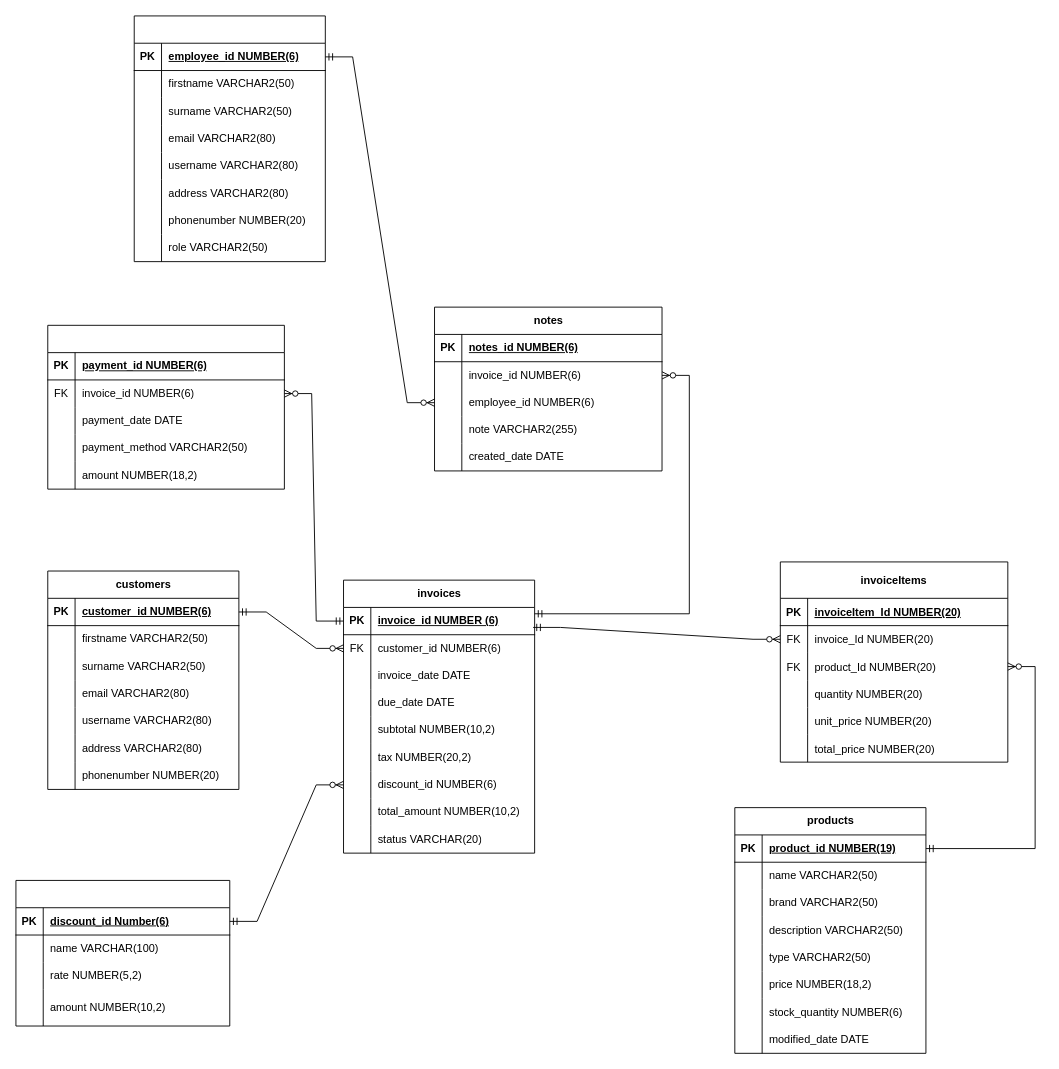
Some shapes in this 1059 by 1069 pixel diagram are drawn without their labels. Here are the shapes that lost their labels. From the top down, the box of each, then its label:
(133, 15, 325, 262): employees
(47, 324, 284, 489): payments
(15, 880, 230, 1026): discounts
